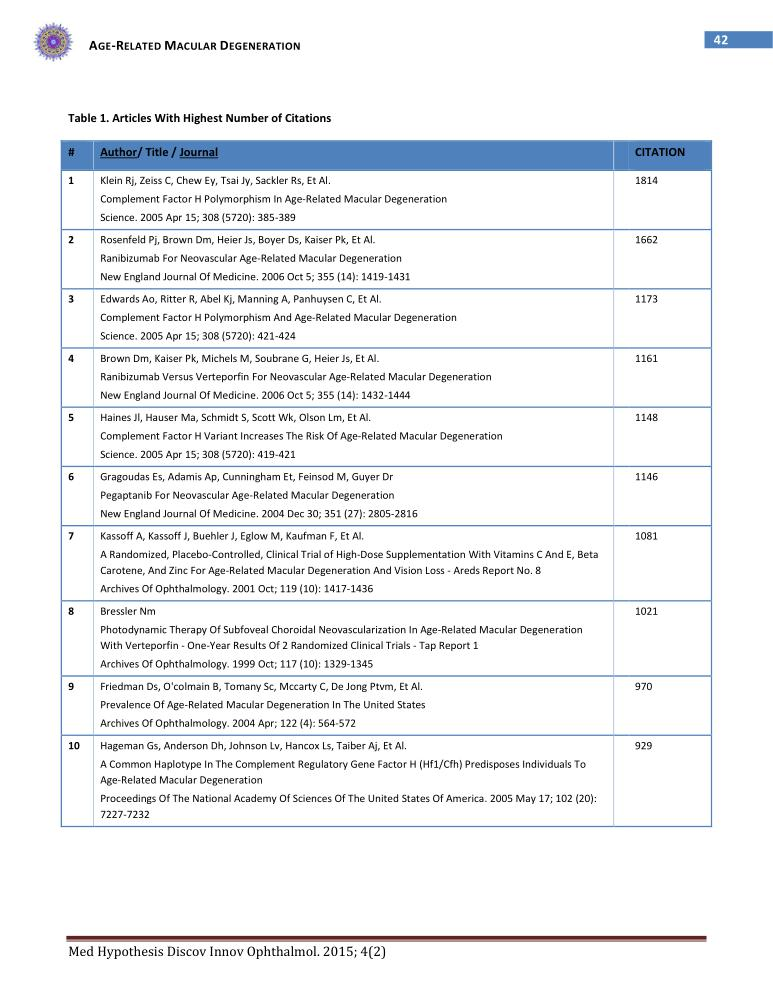table: (68, 146, 684, 820)
